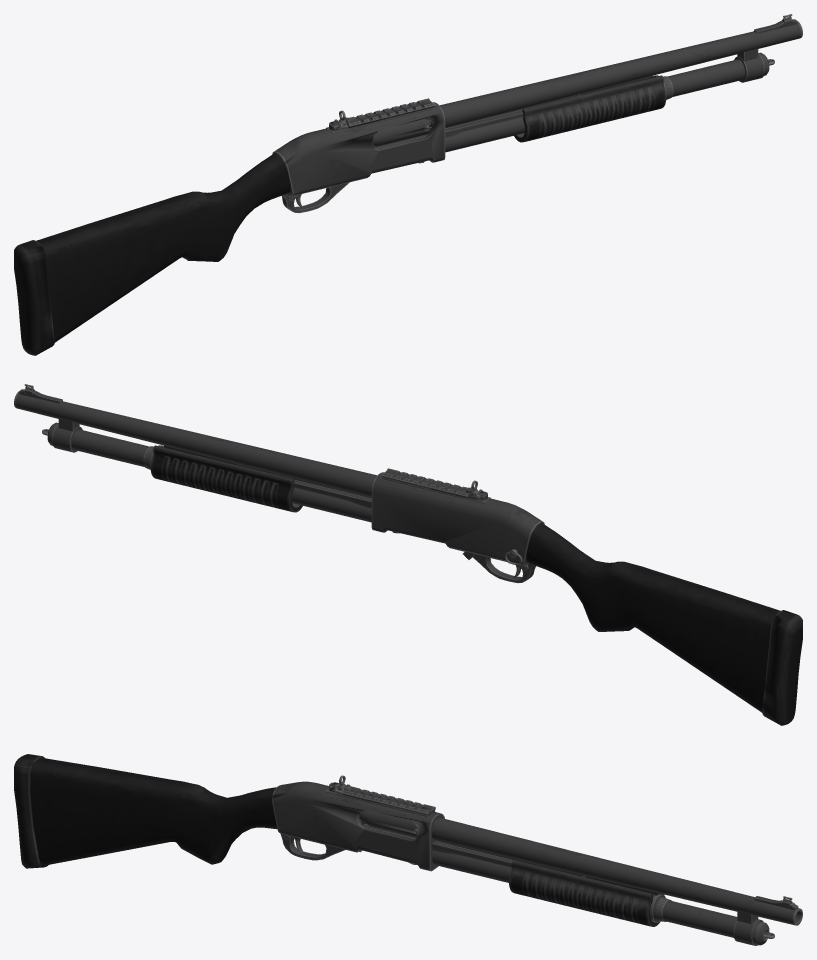
The model's file is remington_870.gltf.
3 views of the same model, one above another, from view 1: azimuth 30°, elevation 25°; view 2: azimuth 150°, elevation 25°; view 3: azimuth 330°, elevation 25° (orthographic).
Parts seen in each view (by area): view 1: remington_870_body, remington_870_pump; view 2: remington_870_body, remington_870_pump; view 3: remington_870_body, remington_870_pump.
Part boxes in pixels (x1,y1,x2,y2): remington_870_body: [14, 14, 802, 355]; remington_870_pump: [373, 75, 666, 146]; remington_870_body: [14, 384, 802, 725]; remington_870_pump: [150, 445, 302, 512]; remington_870_body: [14, 754, 802, 945]; remington_870_pump: [359, 810, 664, 926].
Bounding box in the file's own units: 1.15 × 0.2345 × 0.05.
1 material, 1 textured.
